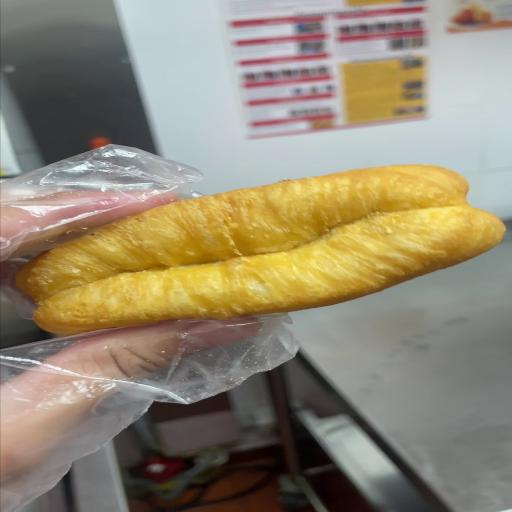brand_golden_good: (18, 165, 503, 335)
